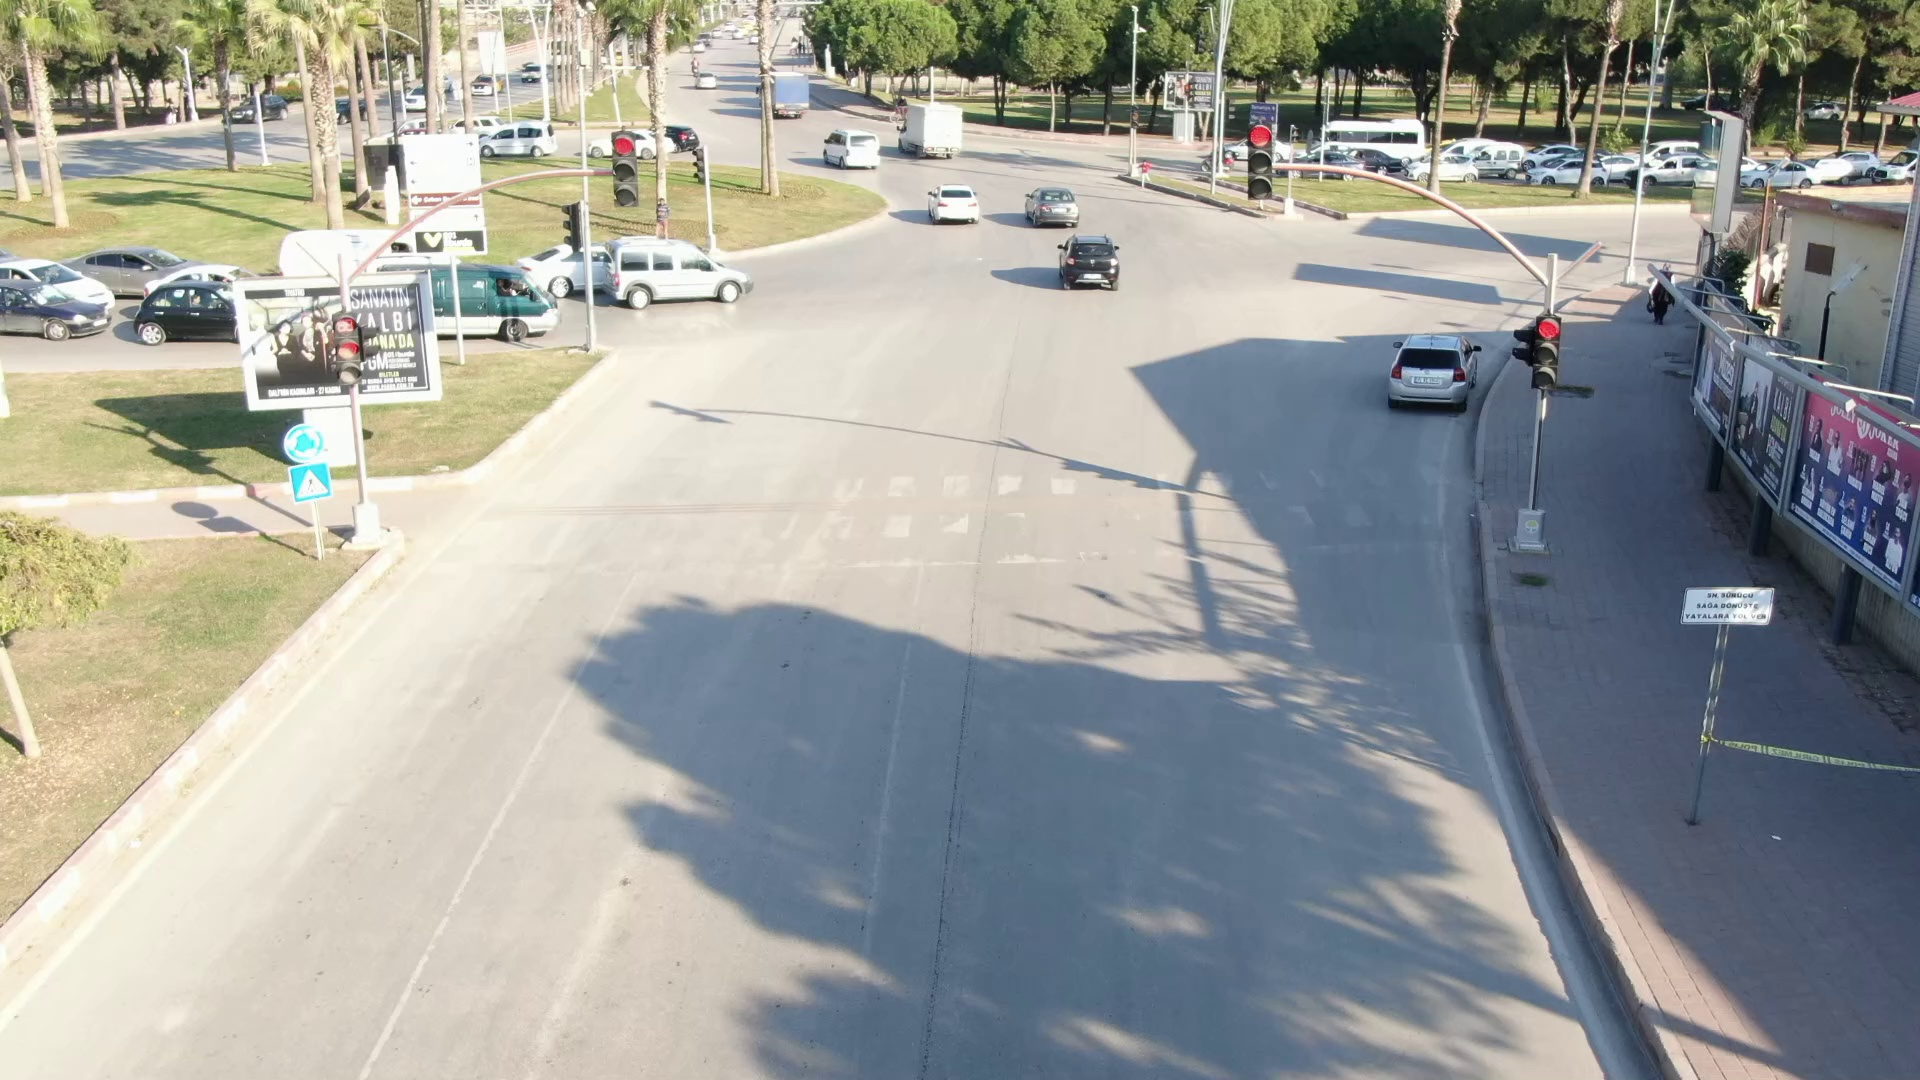car: (591, 220, 764, 318), (1369, 322, 1486, 423), (1041, 224, 1135, 295), (892, 84, 970, 156), (815, 121, 889, 172), (1016, 174, 1081, 225), (924, 181, 981, 225)
person: (1640, 256, 1678, 330)
